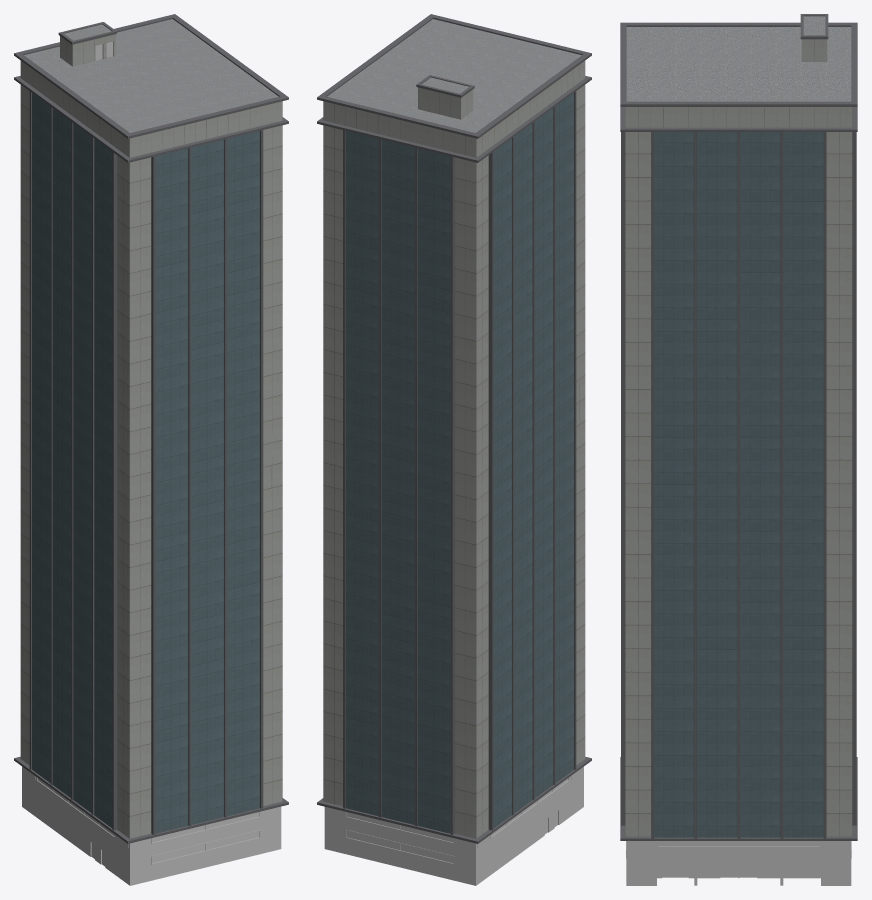
Rendered from mcp_building_02_day_LOD_1.fbx.
3 renders of one model, left to right at view 1: azimuth 30°, elevation 25°; view 2: azimuth 150°, elevation 25°; view 3: azimuth 270°, elevation 25°, orthographic. The views are drawn at different scales.
Visible parts, largest first — view 1: mcp_building_02_walls, mcp_building_02_rooftop, mcp_building_02; view 2: mcp_building_02_walls, mcp_building_02_rooftop, mcp_building_02; view 3: mcp_building_02_walls, mcp_building_02_rooftop, mcp_building_02.
Part boxes in pixels (left/top/right/bottom): mcp_building_02_walls: left=14, top=14, right=288, bottom=843; mcp_building_02_rooftop: left=24, top=19, right=278, bottom=132; mcp_building_02: left=22, top=41, right=281, bottom=885; mcp_building_02_walls: left=317, top=14, right=591, bottom=843; mcp_building_02_rooftop: left=327, top=19, right=581, bottom=132; mcp_building_02: left=324, top=766, right=583, bottom=885; mcp_building_02_walls: left=620, top=14, right=857, bottom=840; mcp_building_02_rooftop: left=626, top=16, right=851, bottom=101; mcp_building_02: left=626, top=841, right=851, bottom=885.
Bounding box in the file's own units: 3194 × 14713 × 3916.
